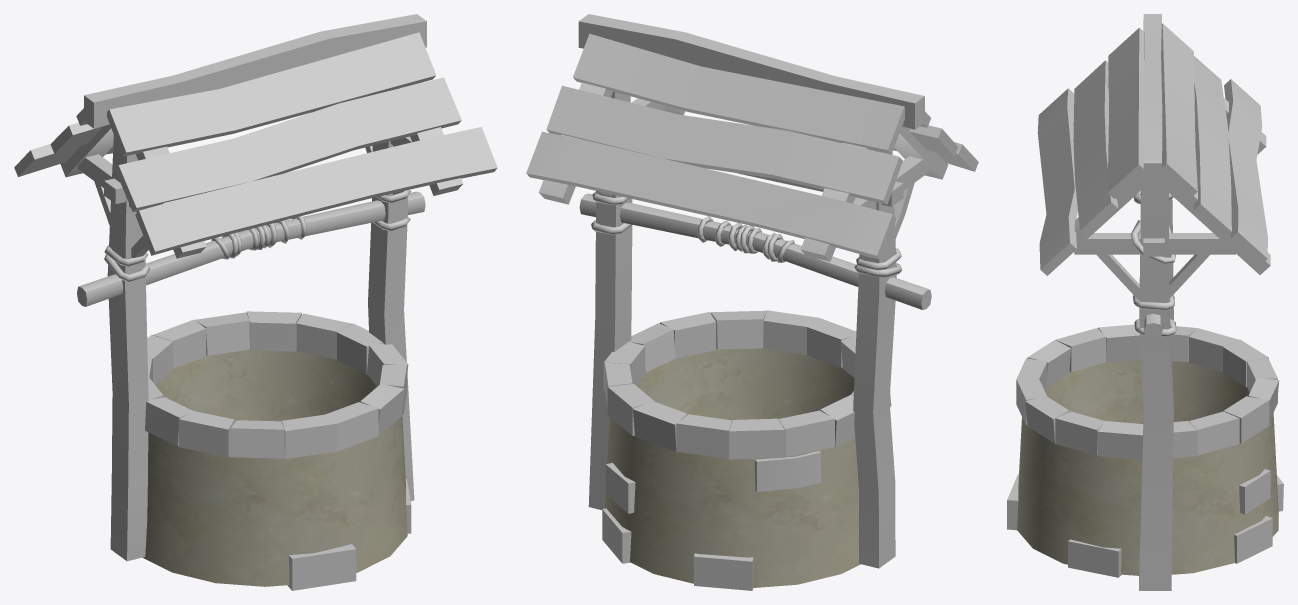
Rendered from O_Well_B.fbx.
3 renders of one model, left to right at view 1: azimuth 30°, elevation 25°; view 2: azimuth 150°, elevation 25°; view 3: azimuth 270°, elevation 25°, orthographic. The views are drawn at different scales.
Parts seen in each view (by area): view 1: O_Well_B_KitPart, O_Well_B; view 2: O_Well_B_KitPart, O_Well_B; view 3: O_Well_B_KitPart, O_Well_B.
Boxes of the visible parts, x1=… form: O_Well_B_KitPart: x1=14, y1=14, x2=497, y2=590; O_Well_B: x1=142, y1=349, x2=407, y2=586; O_Well_B_KitPart: x1=526, y1=14, x2=978, y2=590; O_Well_B: x1=604, y1=347, x2=860, y2=587; O_Well_B_KitPart: x1=1007, y1=14, x2=1283, y2=590; O_Well_B: x1=1017, y1=360, x2=1278, y2=575.
Size of the model in its own units: 224 by 282 by 161.
